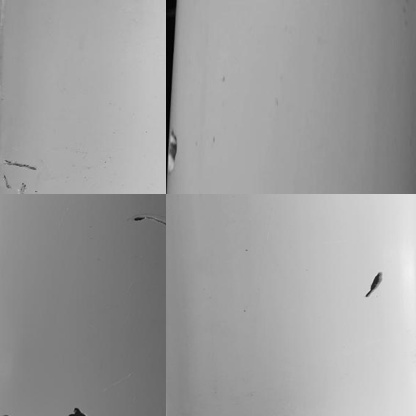fengxi: (125, 210, 165, 225), (7, 154, 32, 173)
kongdong: (168, 129, 182, 171), (358, 270, 382, 294)
